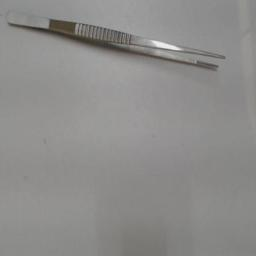DeBakey Dissector: (3, 4, 239, 80)
